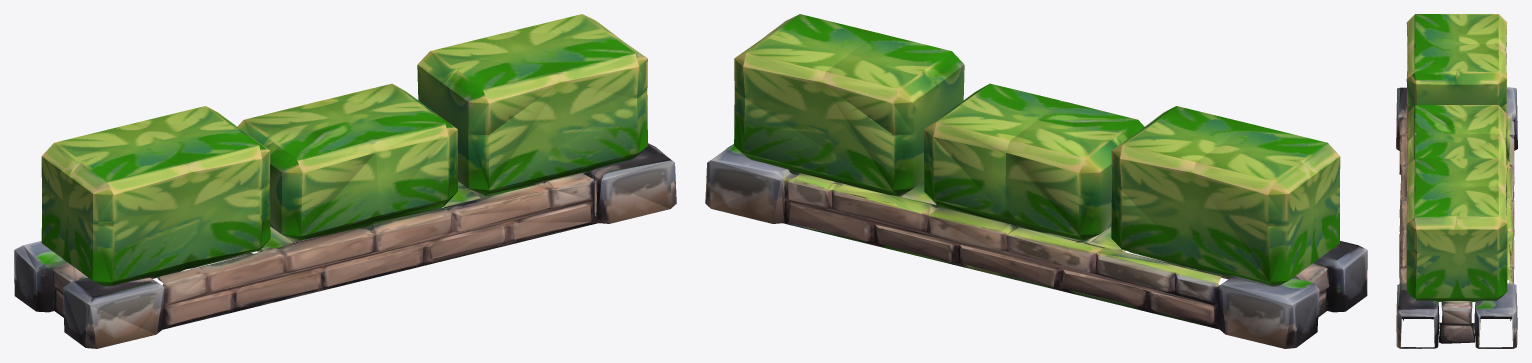
Rendered from prop.glb.
3 views of the same model, side by side, from view 1: azimuth 30°, elevation 25°; view 2: azimuth 150°, elevation 25°; view 3: azimuth 270°, elevation 25° (orthographic). The views are drawn at different scales.
Visible parts, largest first — view 1: material; view 2: material; view 3: material.
Boxes of the visible parts, x1,y1,x2,y2 form: material: [14, 14, 676, 348]; material: [705, 14, 1367, 348]; material: [1396, 14, 1517, 348].
Size of the model in its own units: 31.99 by 7.99 by 7.24.
1 material, 1 textured.
